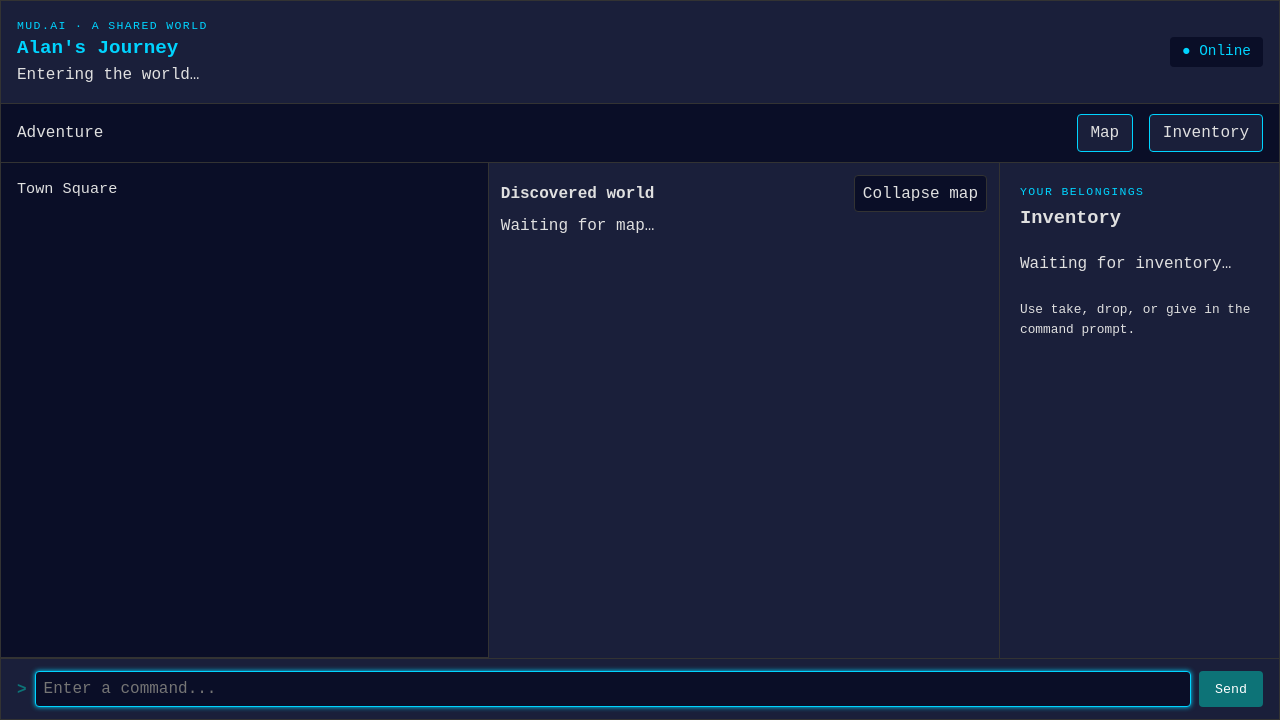
Scenario: Terminal › shows server output and sends commands after connecting
Check: the text "● Online" is shown, box [1170,37,1263,67]
Check: the text "Town Square" is shown, box [17,180,117,198]
Type "north" into the field with test id "command-input" at (613, 689), box [35,671,1191,707]
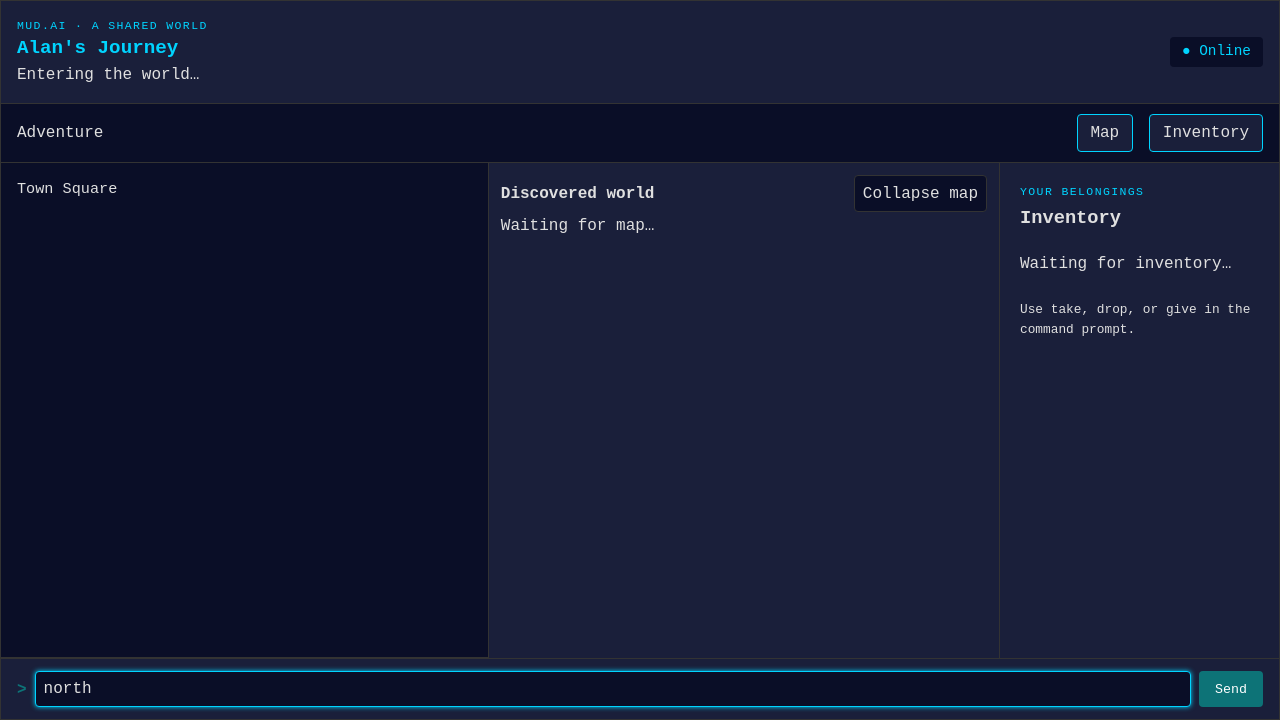
Submit the form with test id "command-input", box [1,658,1279,719]
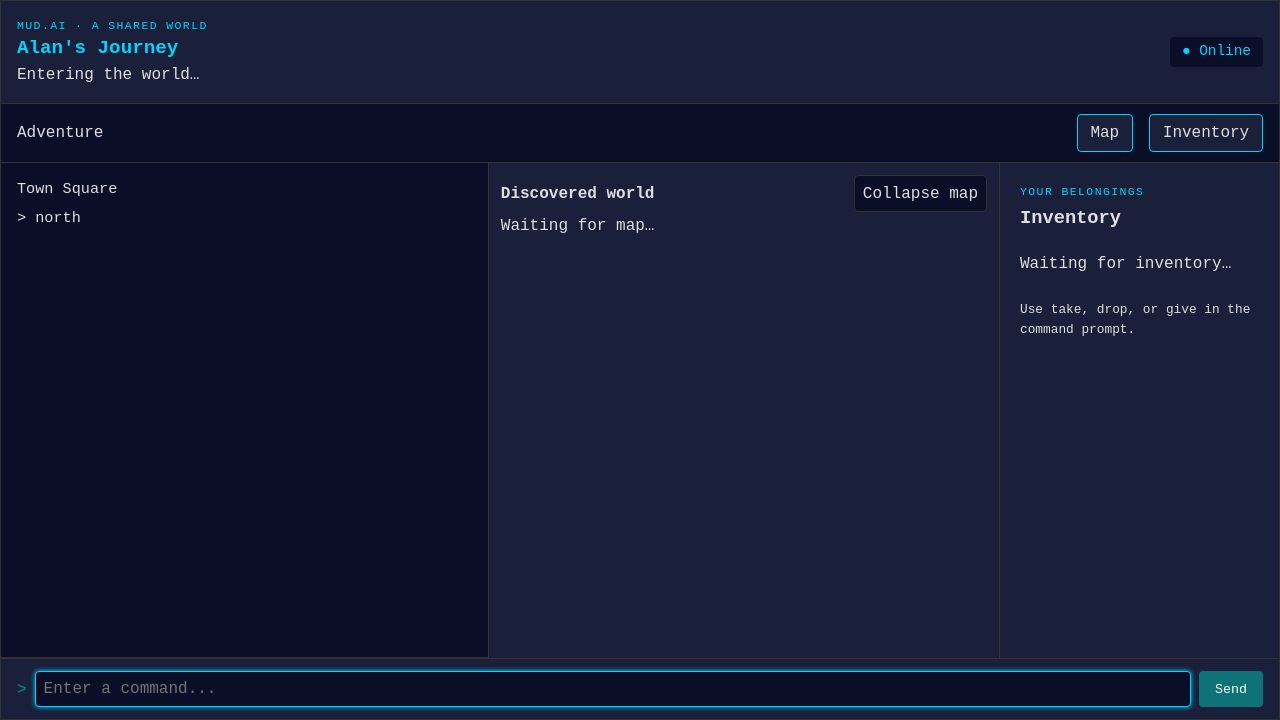
Check: the text "> north" is shown, box [17,209,81,227]
